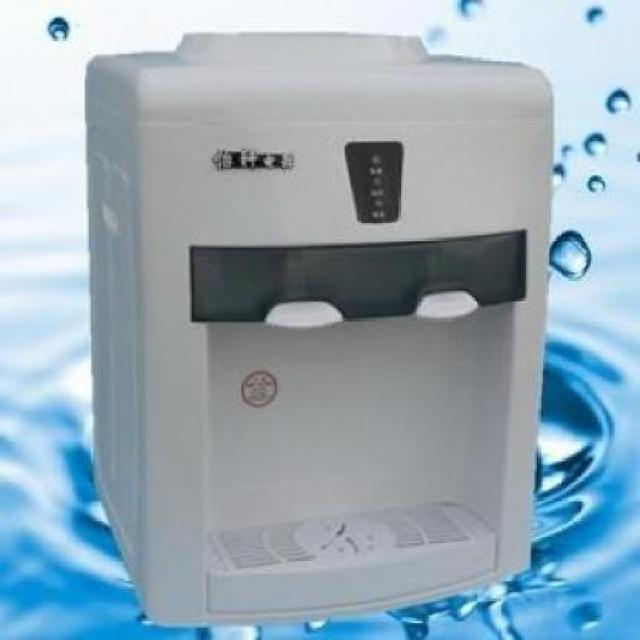cooler: (82, 24, 560, 630)
